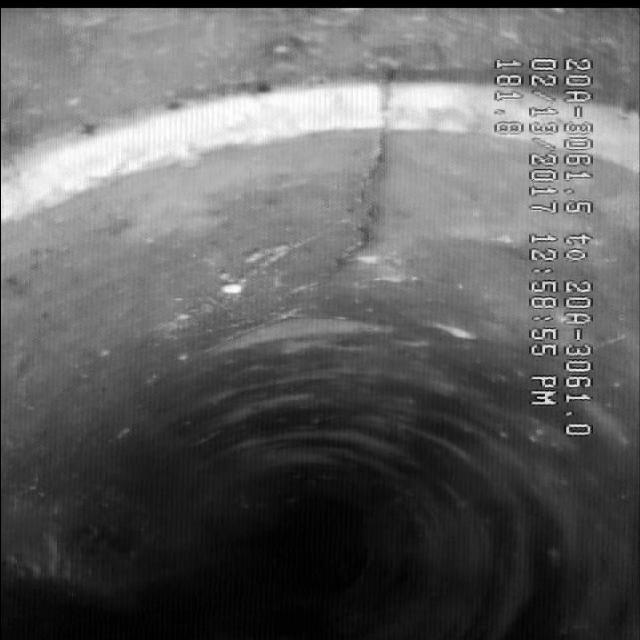Crack: (318, 147, 427, 286)
